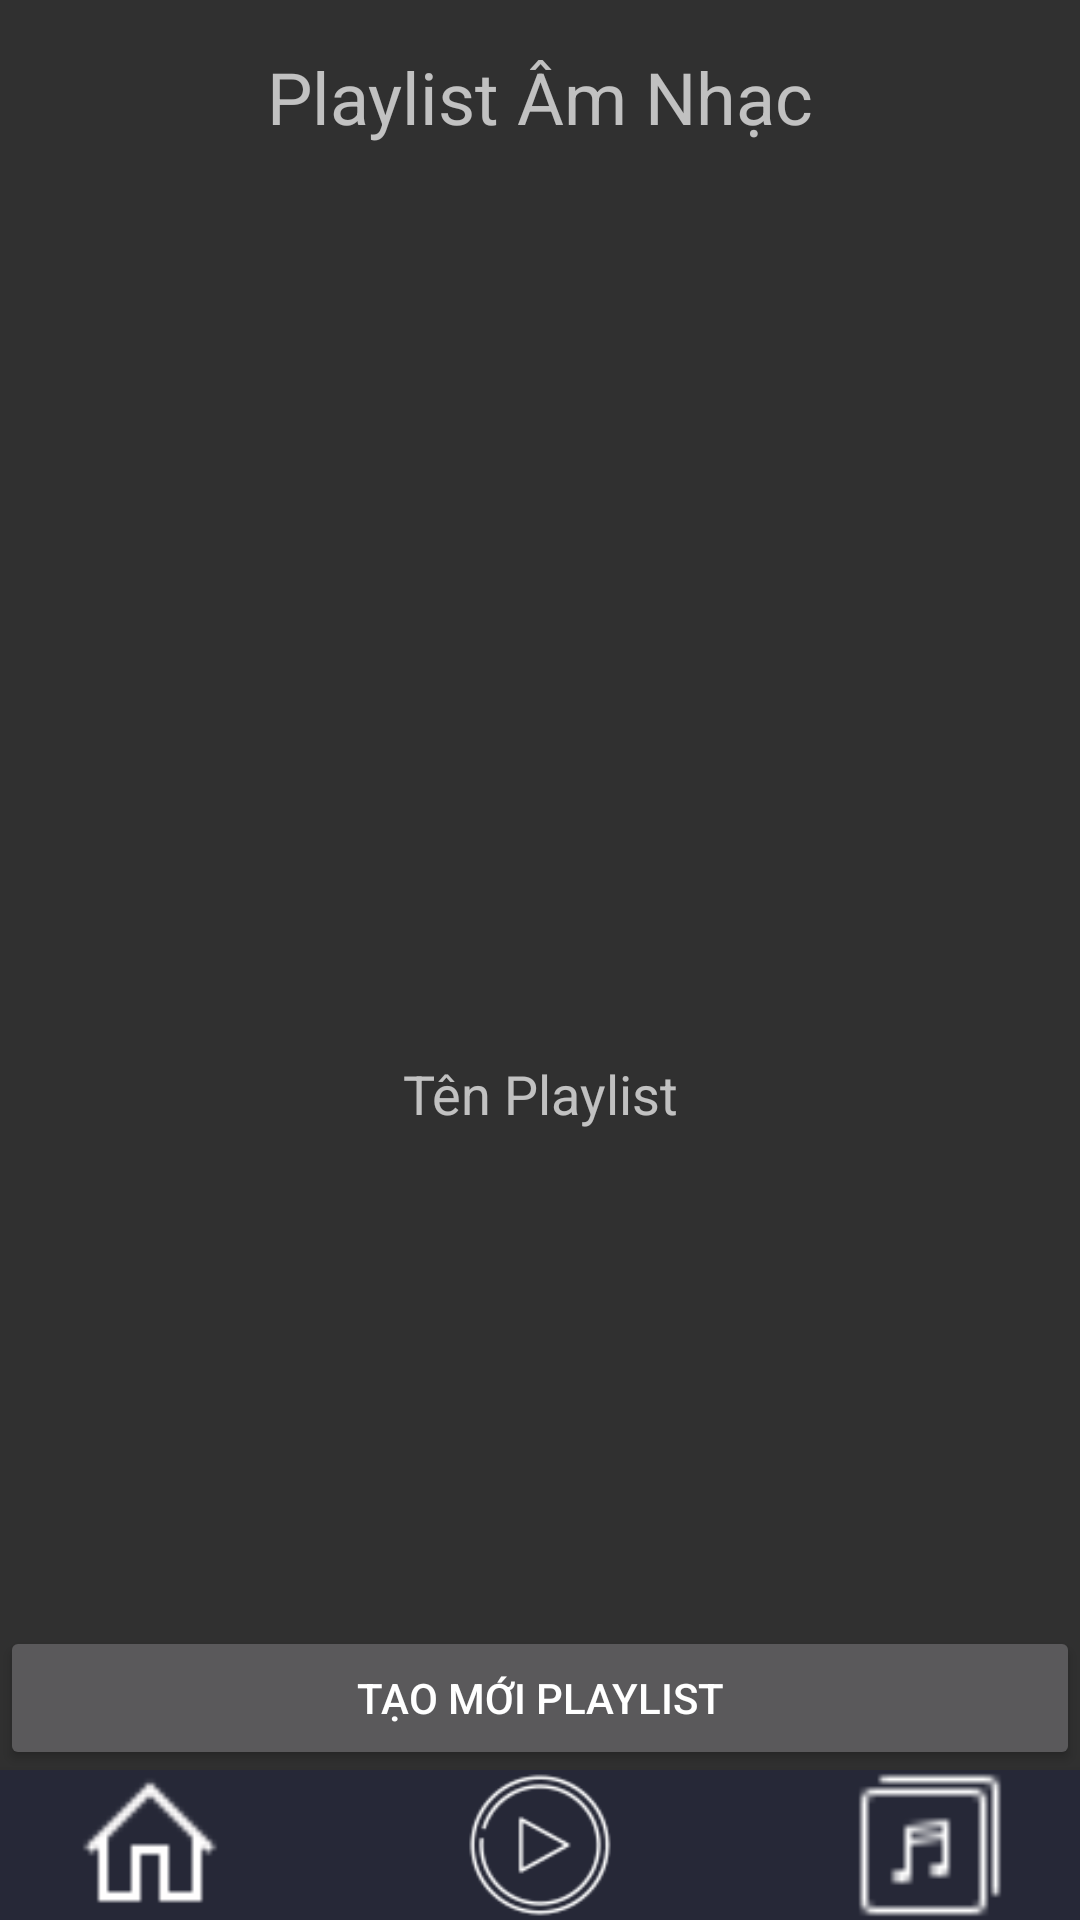

Locate icon controls on the screen. Image size 1080px×1920px, boxes as (x1, y1, x2, y2).
album: (859, 1774, 1001, 1916)
home: (83, 1782, 217, 1903)
